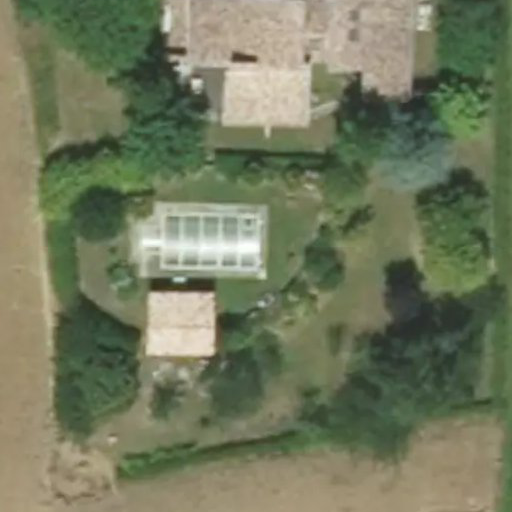pool: (202, 217, 309, 265)
